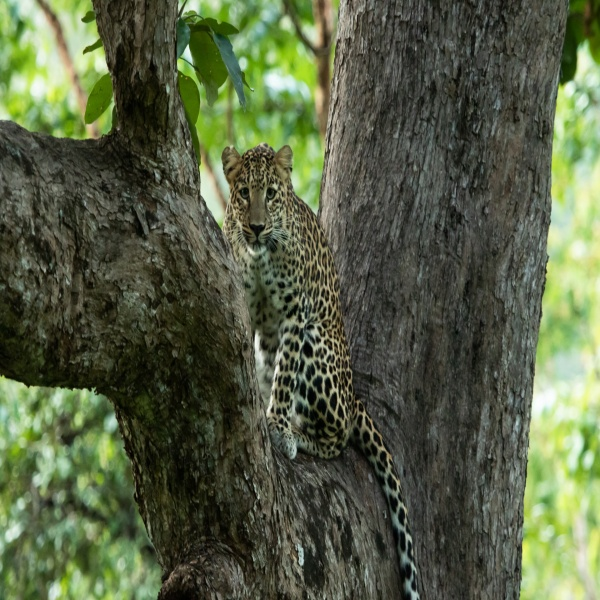Leopard: (217, 143, 423, 600)
